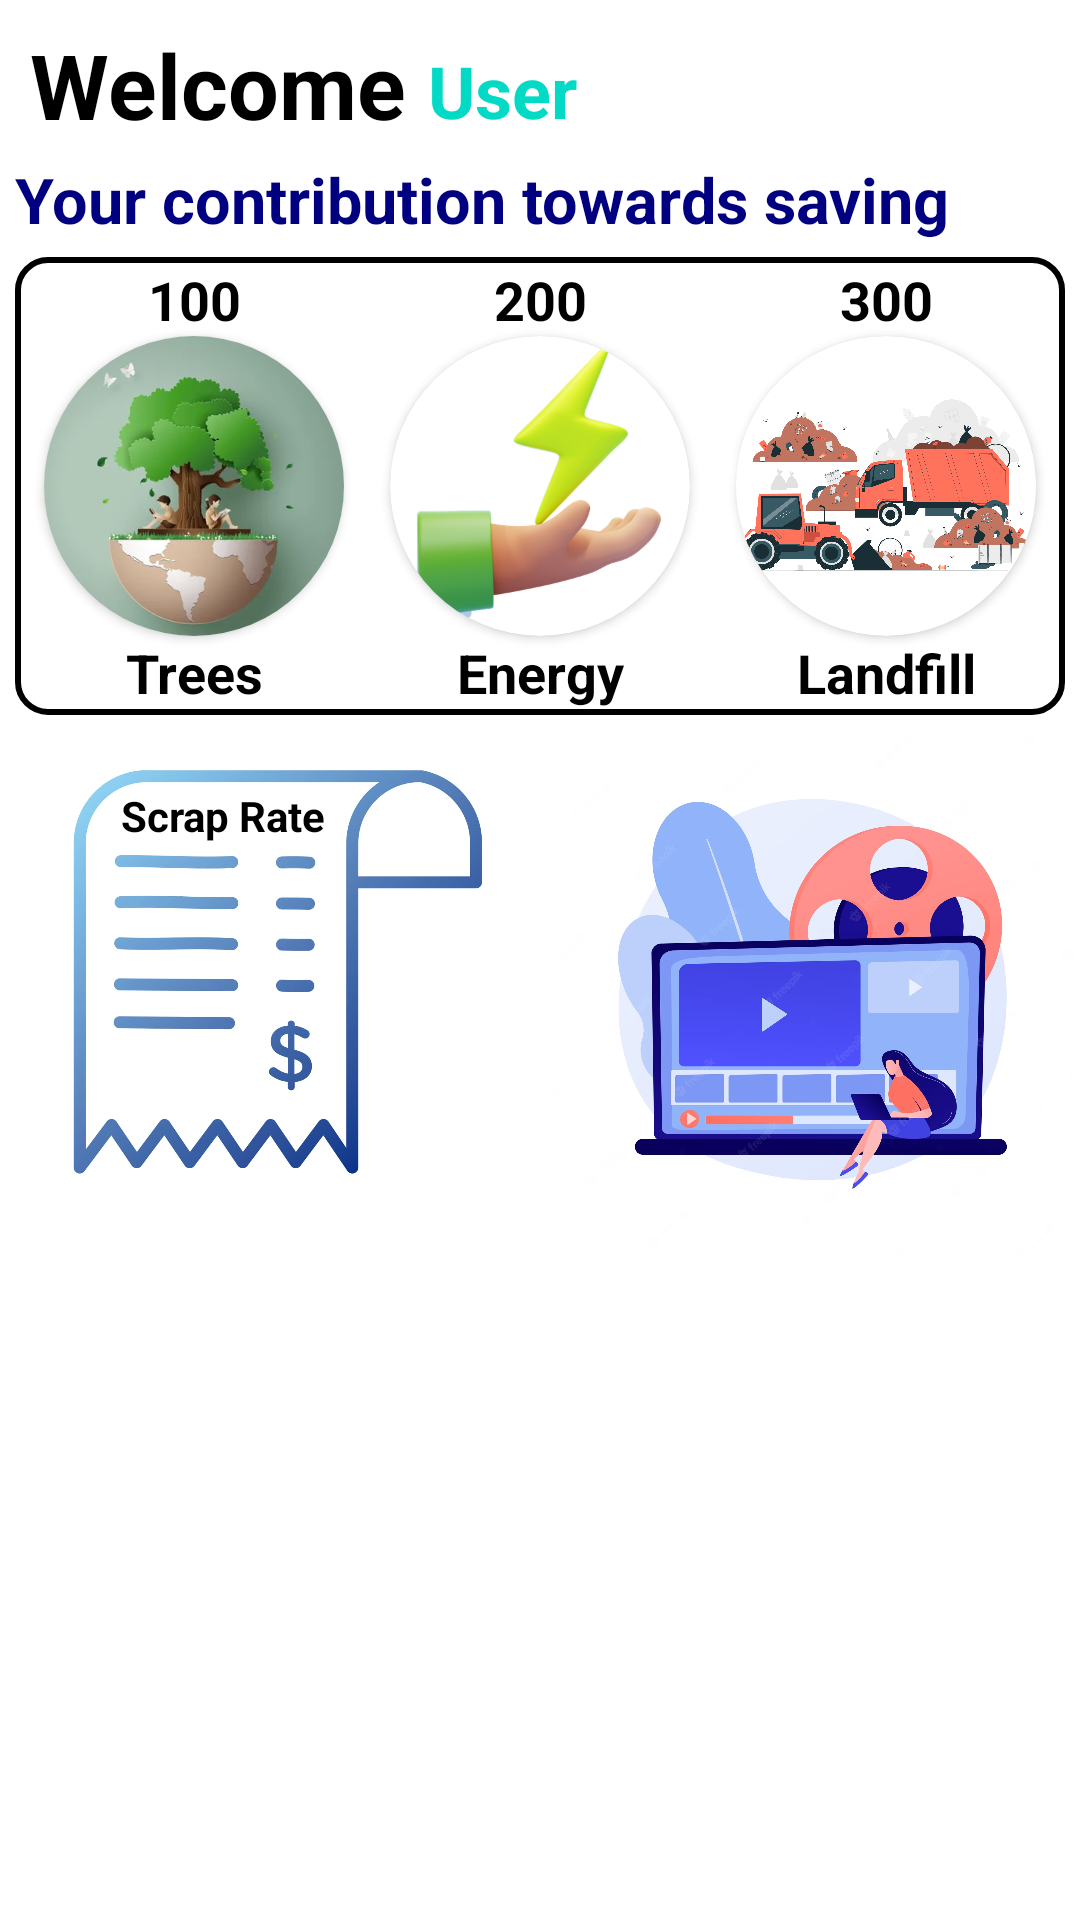

Point at icon controls on the screen. Image size 1080*1920, points as (x=x, y=y).
ladfill saved: (x=890, y=522)
